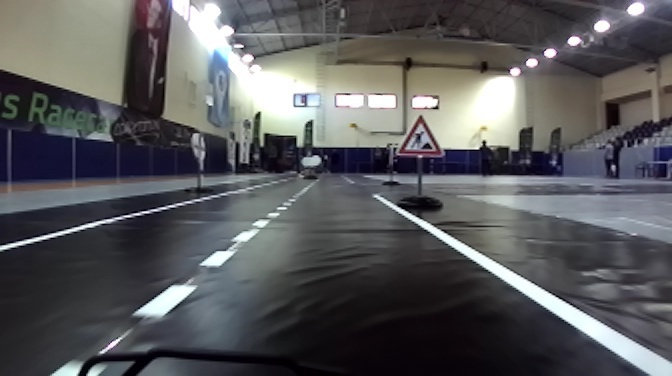yol_yapimi: (392, 111, 443, 154)
